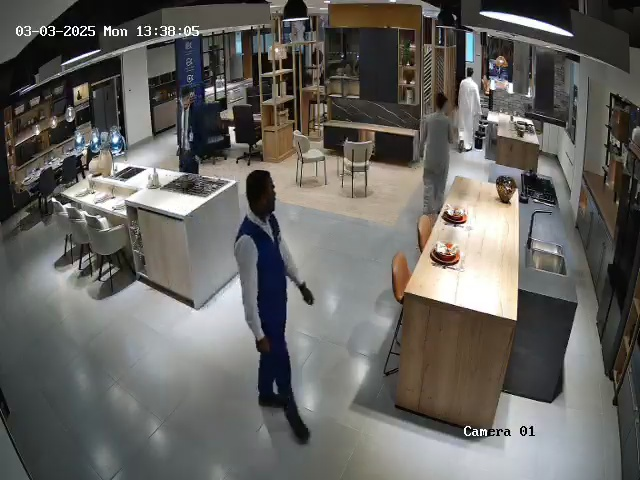employee: (234, 169, 315, 444), (164, 83, 209, 174)
male: (419, 92, 454, 215), (457, 67, 482, 152)
